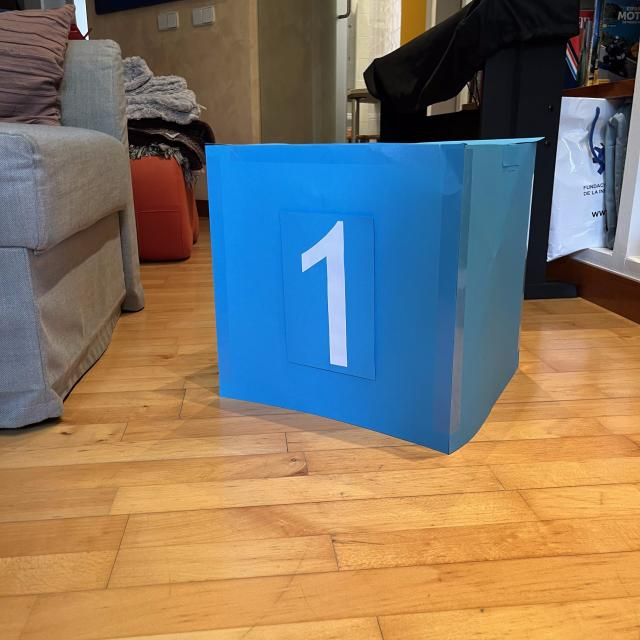box: (200, 132, 545, 456)
